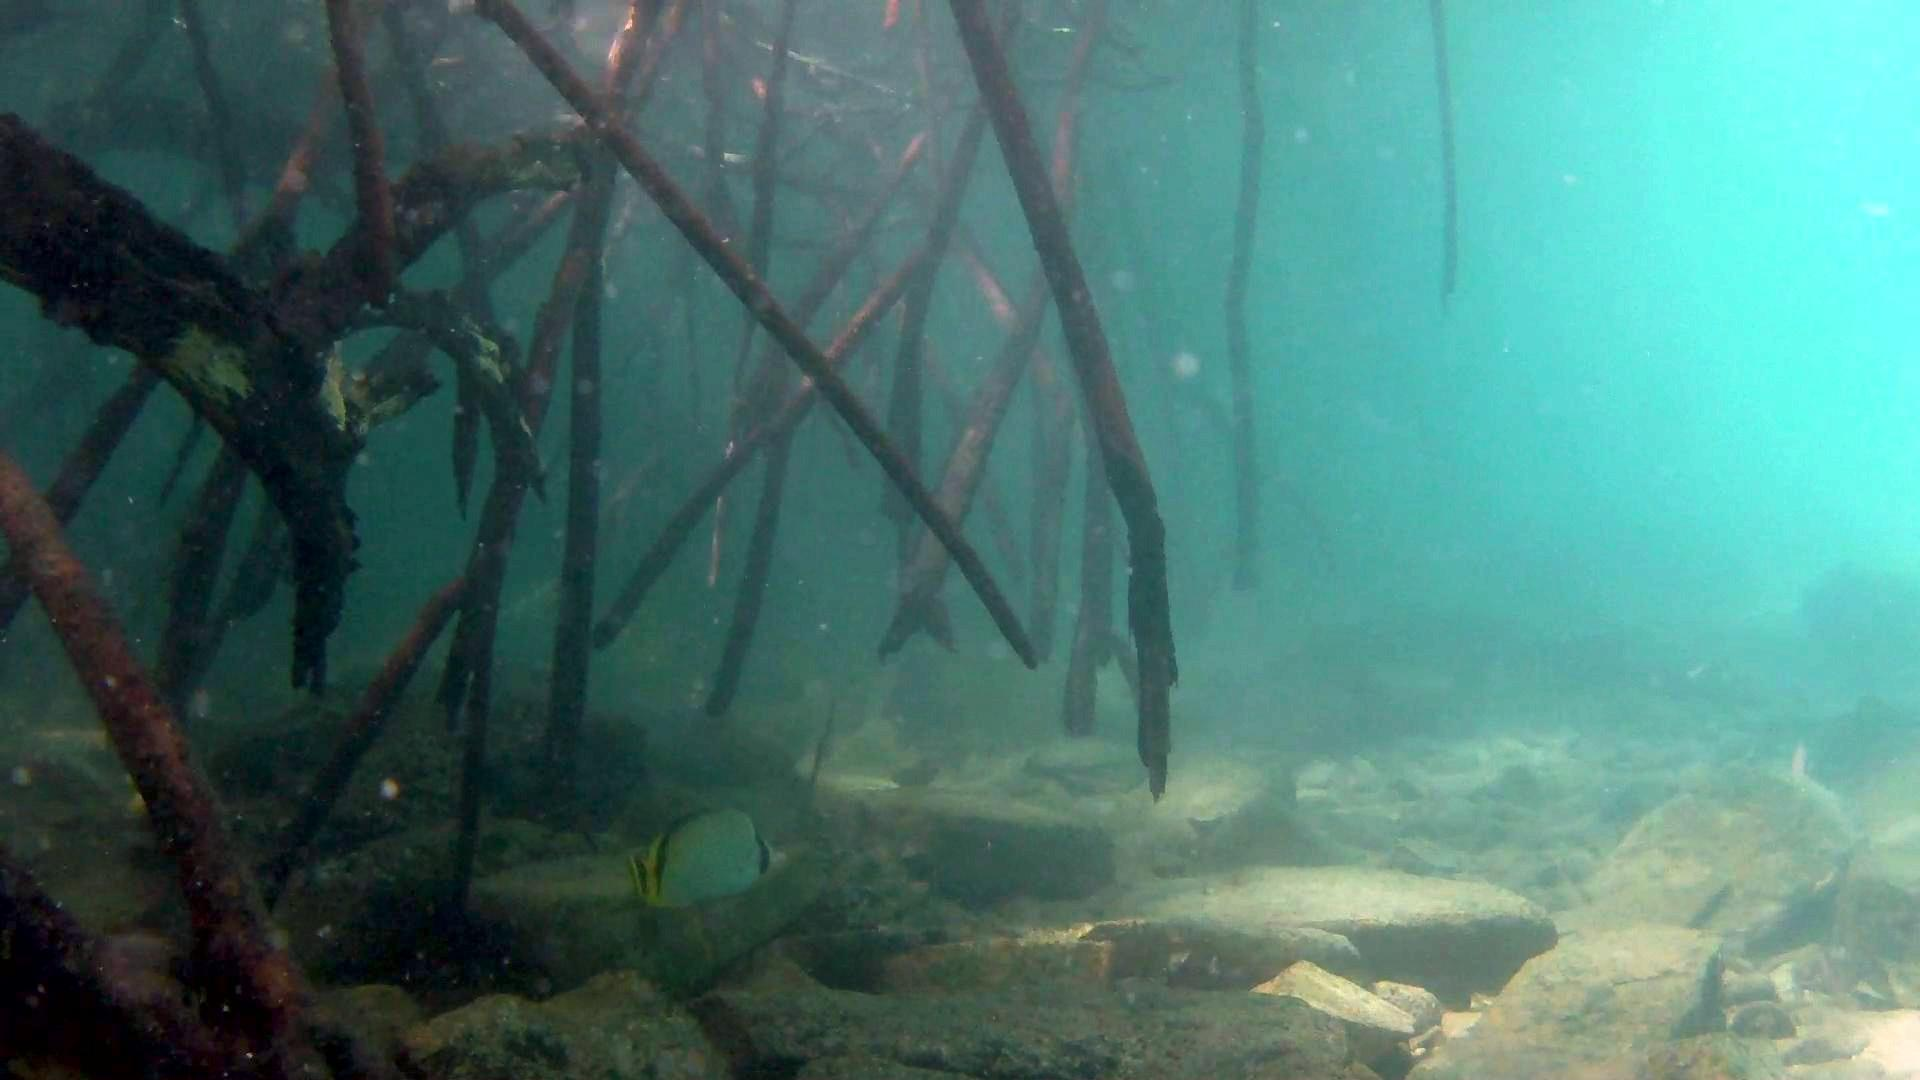chaetodon vagabundus: (619, 802, 793, 912)
